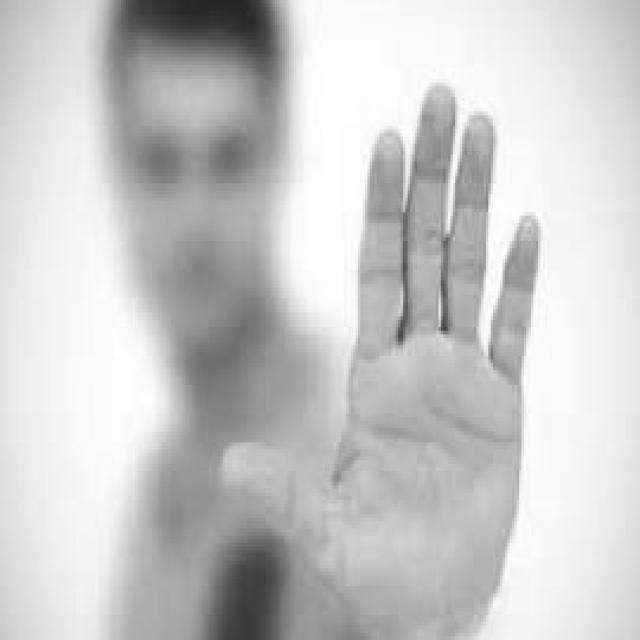stop: (216, 68, 545, 640)
